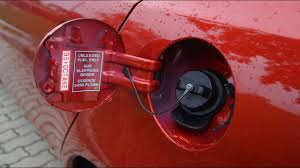open: (144, 31, 238, 152)
